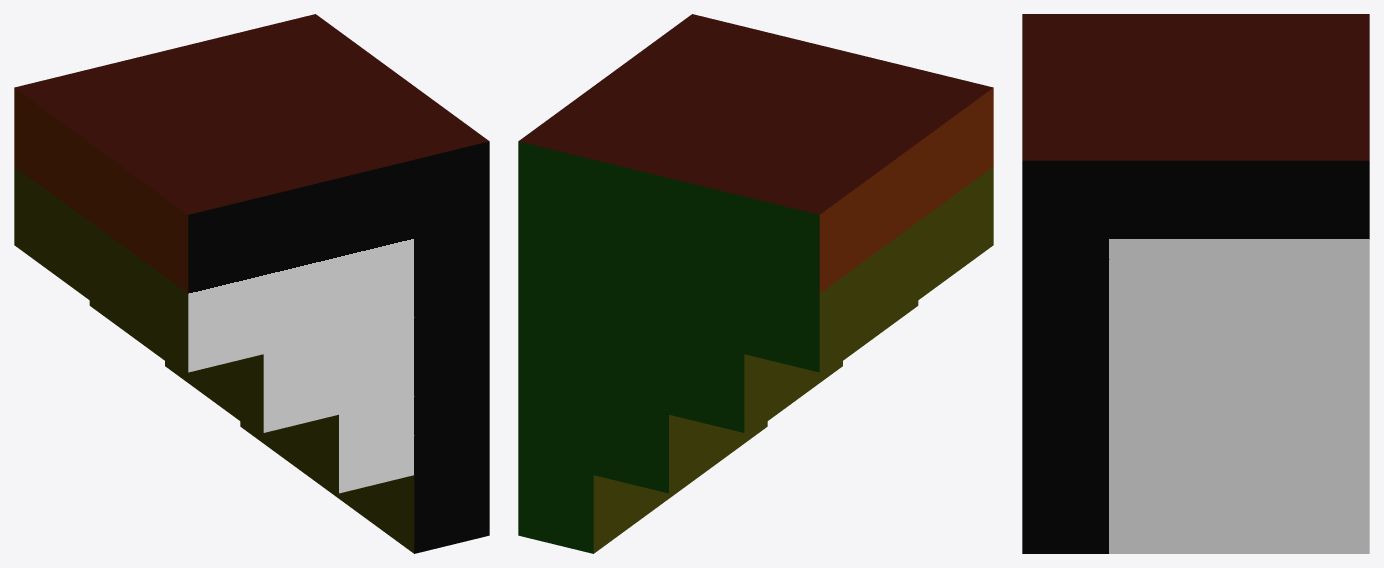
File: block_22.fbx
The picture shows the model from 3 angles, left to right: view 1: azimuth 30°, elevation 25°; view 2: azimuth 150°, elevation 25°; view 3: azimuth 270°, elevation 25°; orthographic projection.
Visible parts, largest first — view 1: box; view 2: box; view 3: box.
Boxes of the visible parts, x1,y1,x2,y2 form: box: (14, 14, 489, 553); box: (518, 14, 993, 553); box: (1022, 14, 1369, 553).
Bounding box in the file's own units: 4 × 4 × 5.
Materials: 1 (1 with a texture image).
